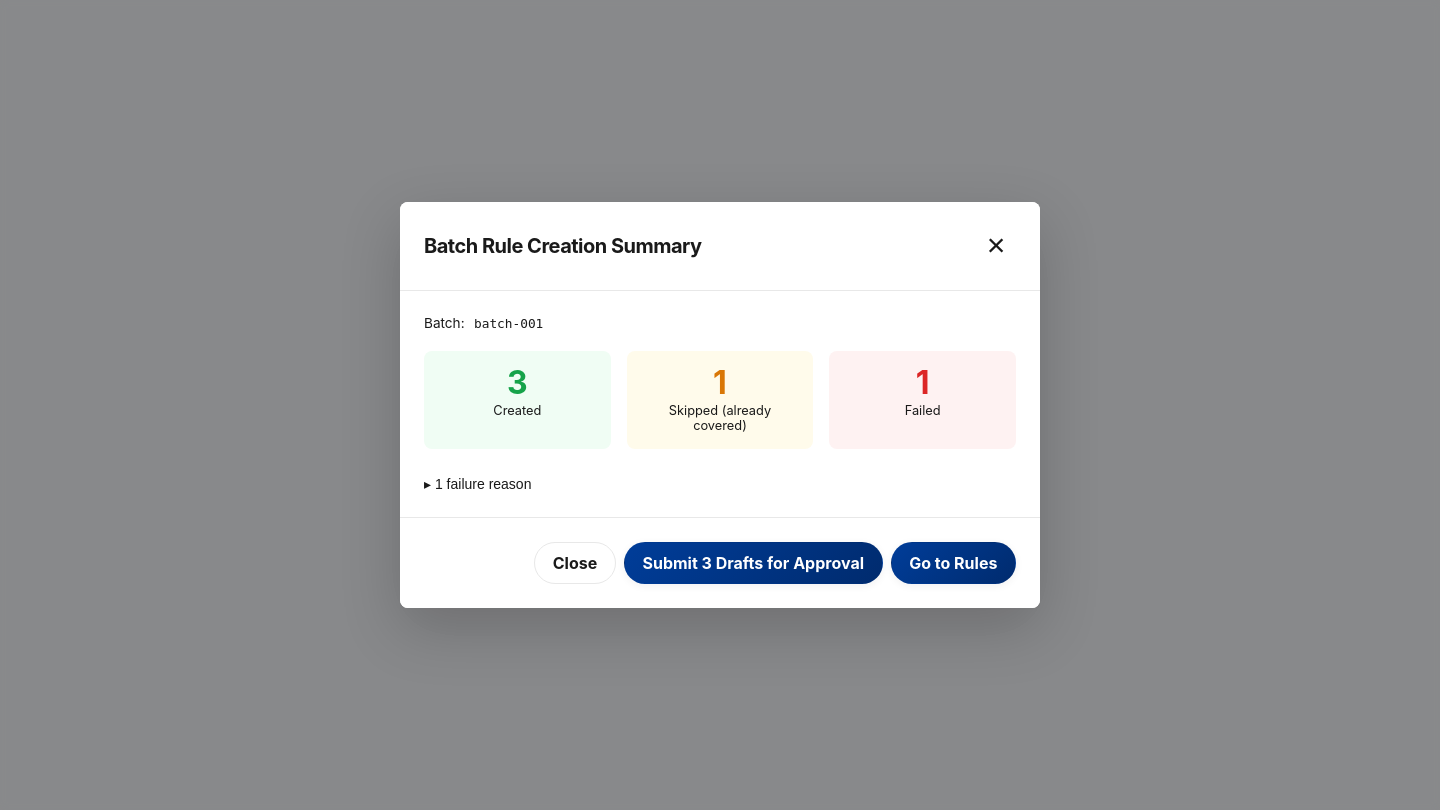
Test case: OnboardingBatchSummary › expands failed reasons list when toggle is clicked
The width and height of the screenshot is (1440, 810).
Click the button "▸ 1 failure reason".
click(478, 484)  # box [424,476,531,492]
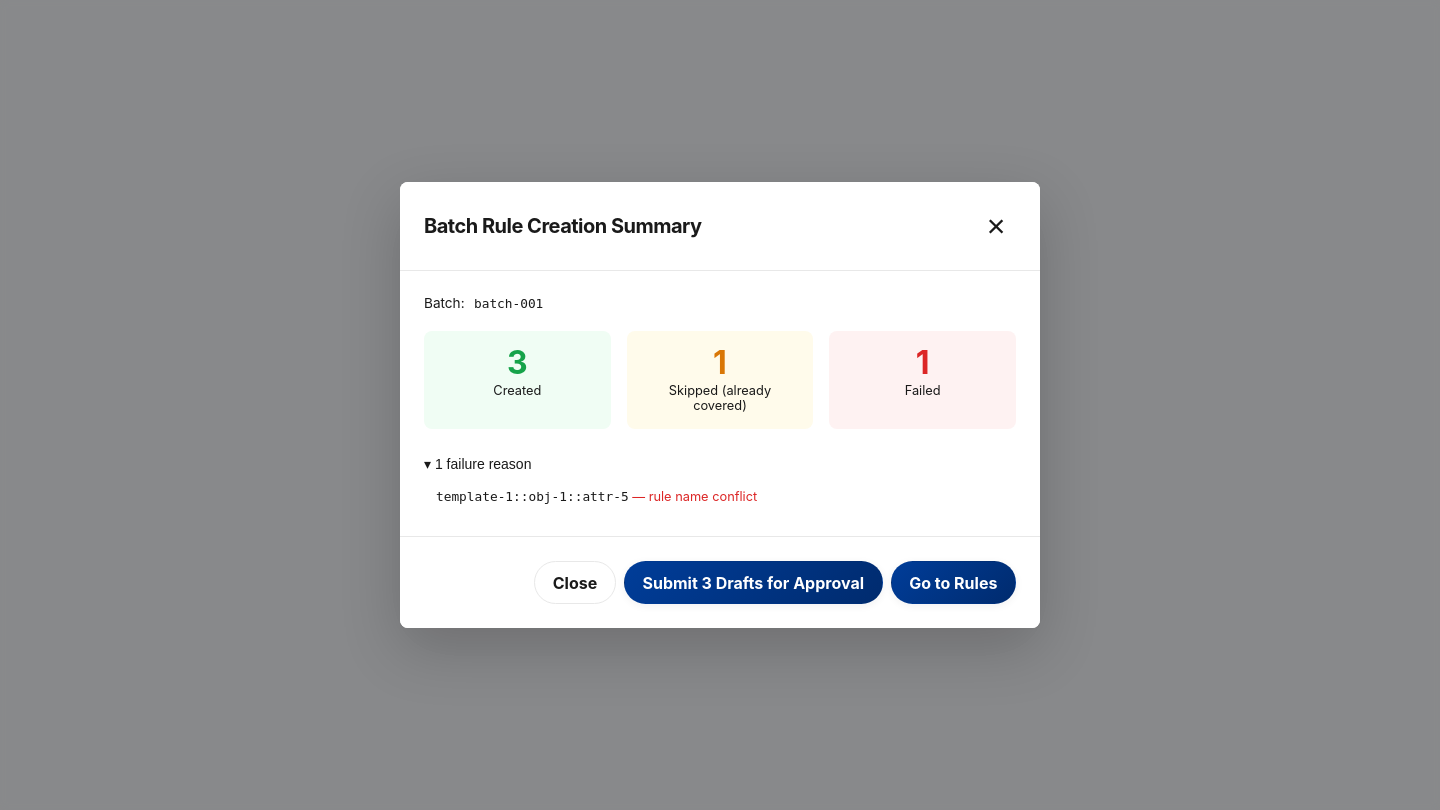
Expected: the text "— rule name conflict" is shown, [629,489,757,504]
